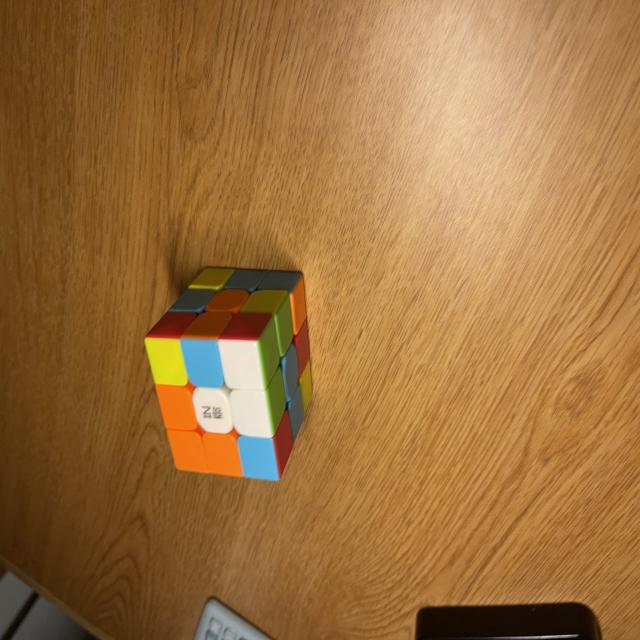Rubiks Cube: (144, 266, 313, 479)
